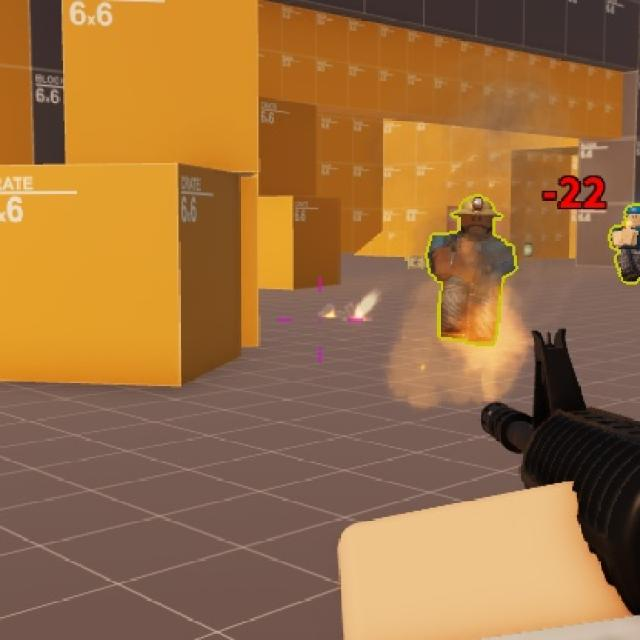player: (440, 188, 500, 342), (617, 194, 640, 281)
